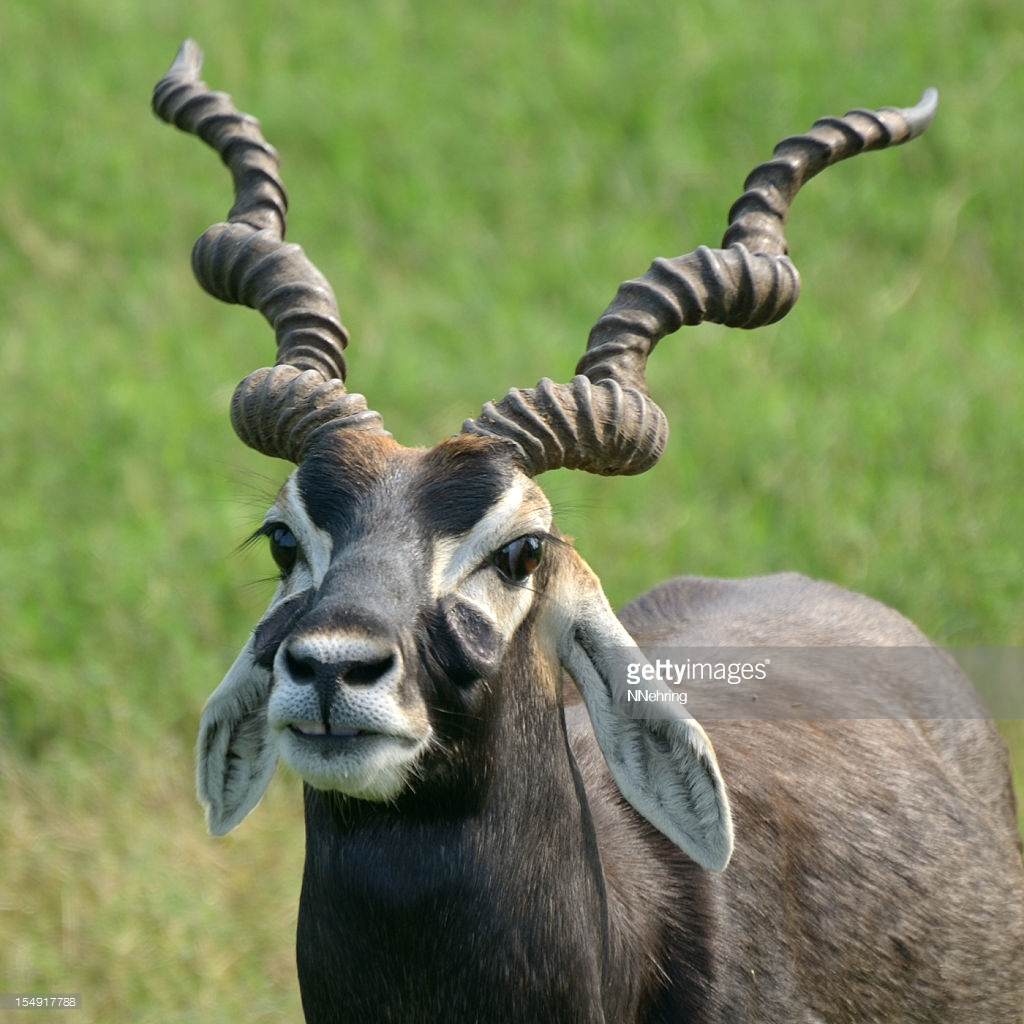Blackbuck: (147, 27, 1017, 1024)
